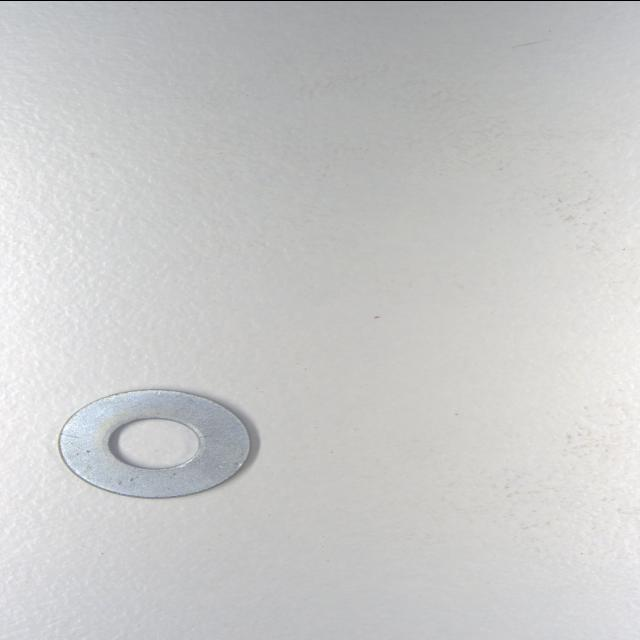washer: (56, 386, 254, 498)
